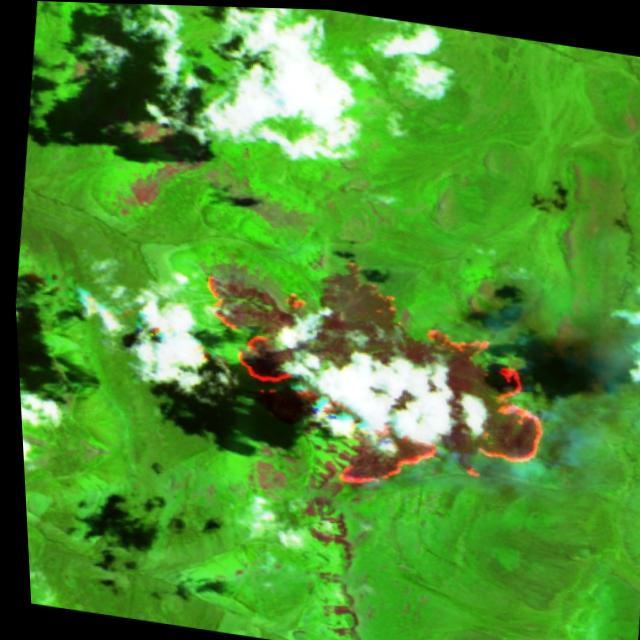fire: (173, 230, 568, 514)
